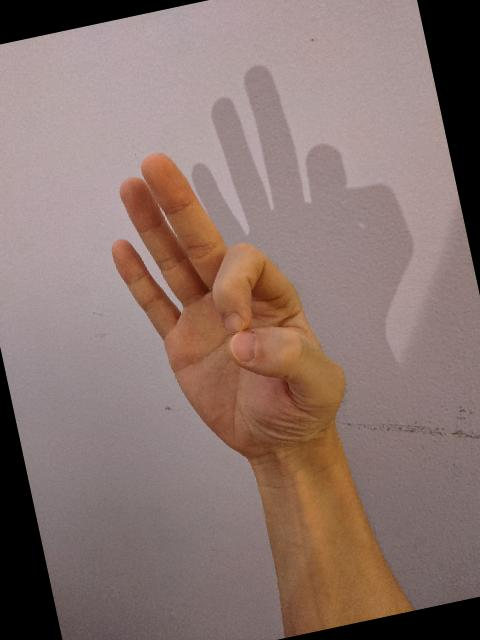F: (89, 118, 365, 486)
